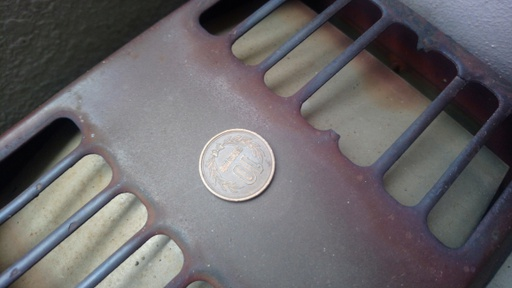10yen: (198, 128, 274, 201)
